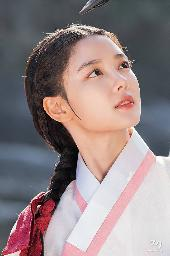face: (68, 36, 140, 126)
